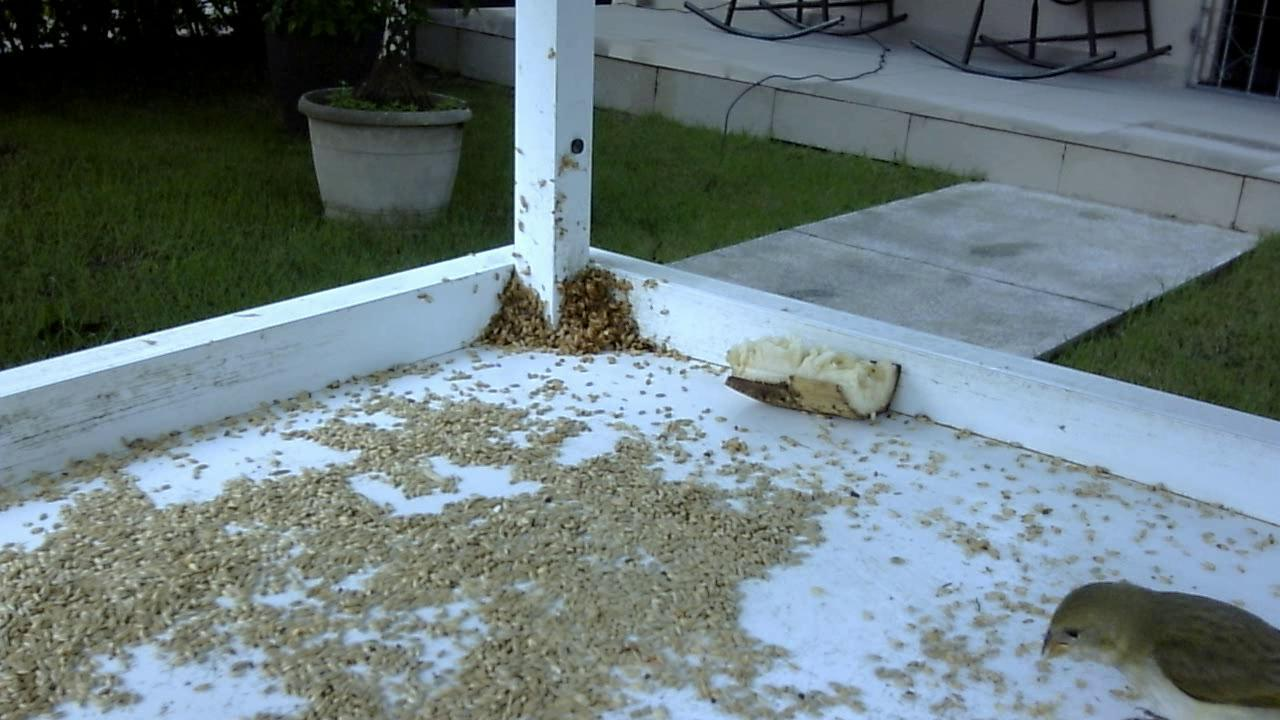canario_do_amazonas: (1034, 578, 1272, 716)
